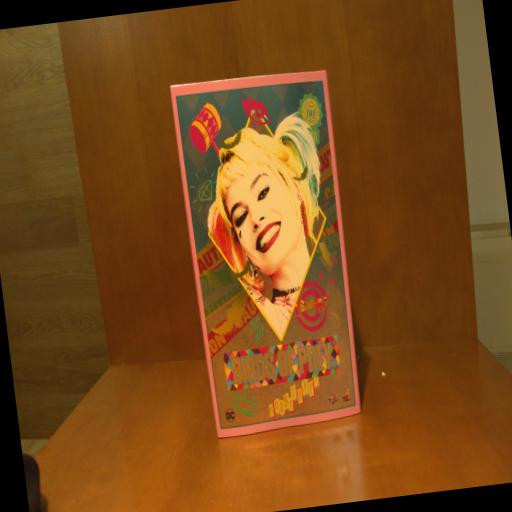Harley: (170, 65, 370, 439)
